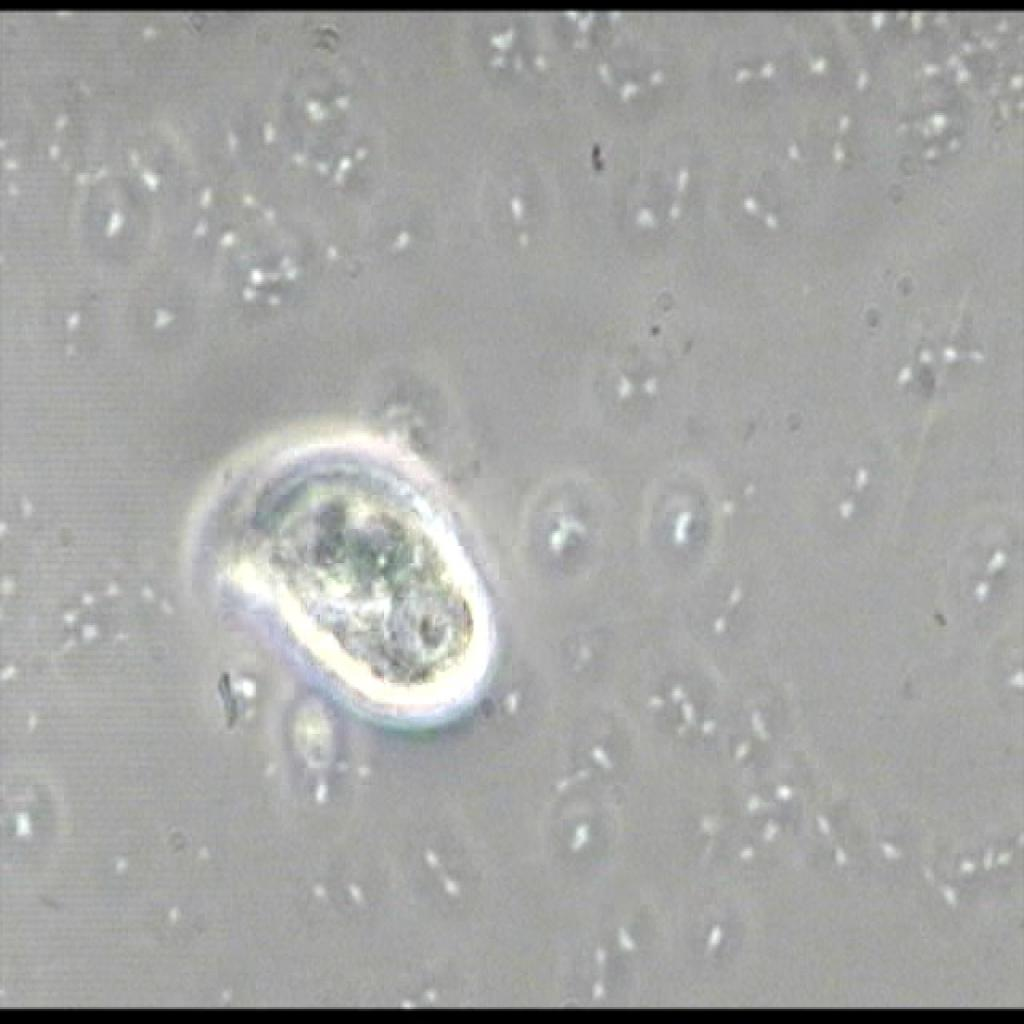Chilodonella: (159, 397, 502, 755)
